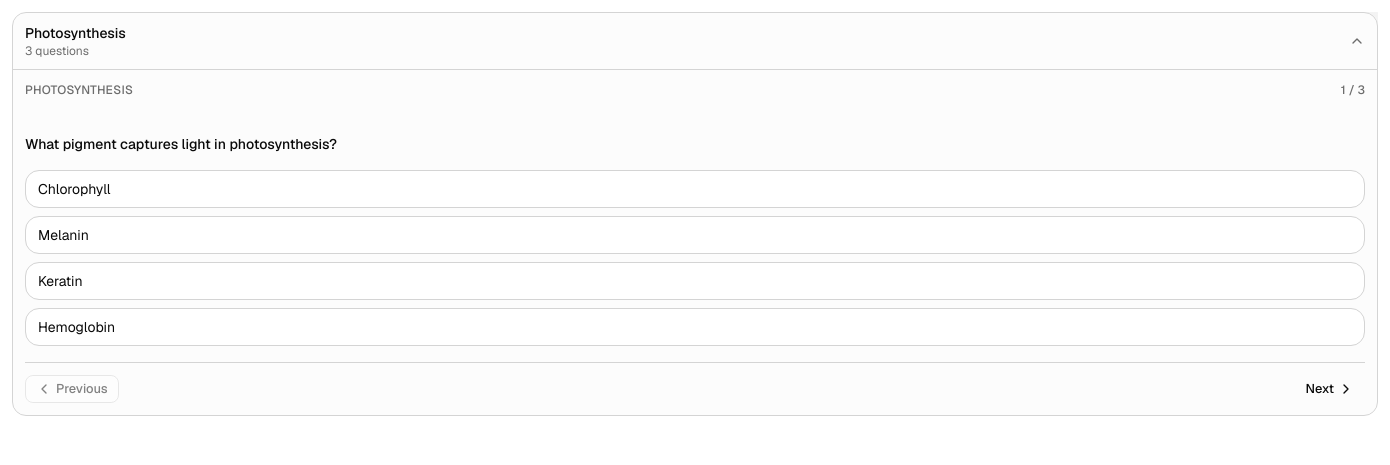
Test: QuizPanel — saving attempts › tells the user when a score couldn't be saved, without blocking the quiz
The width and height of the screenshot is (1390, 465).
Click the button "Chlorophyll".
click(74, 189)  # box [25,170,1365,208]
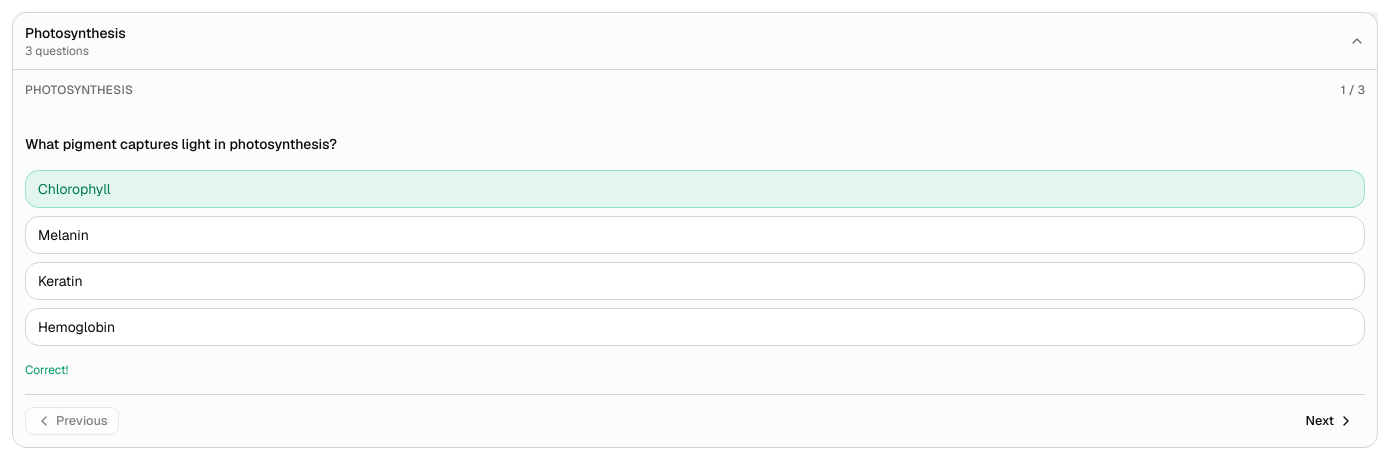
Click the button with aria-label "Next question".
click(1330, 421)  # box [1294,407,1365,435]
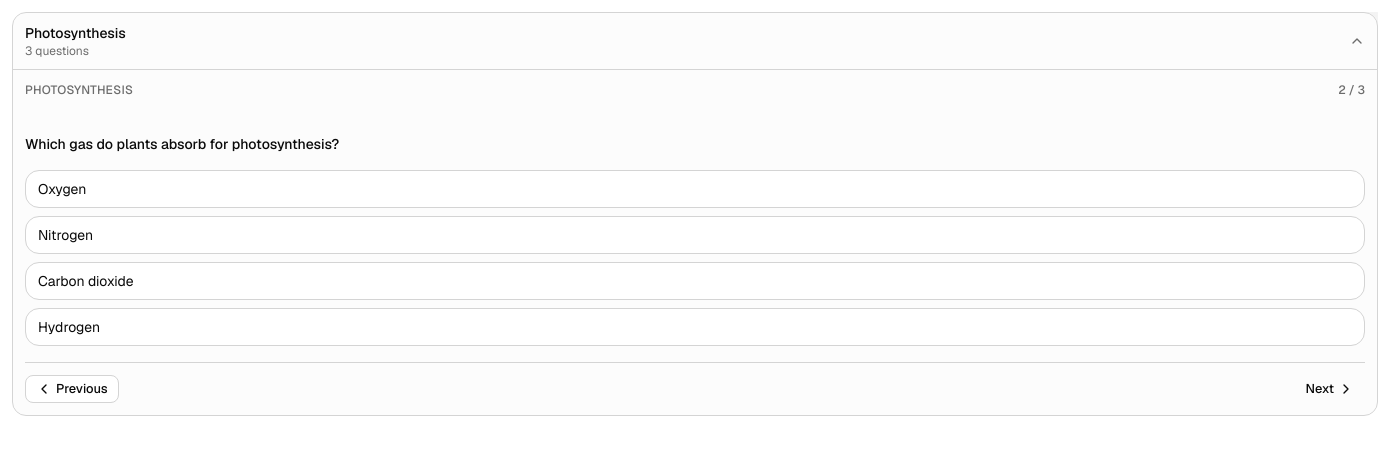
Click the button "Oxygen".
click(62, 189)  # box [25,170,1365,208]
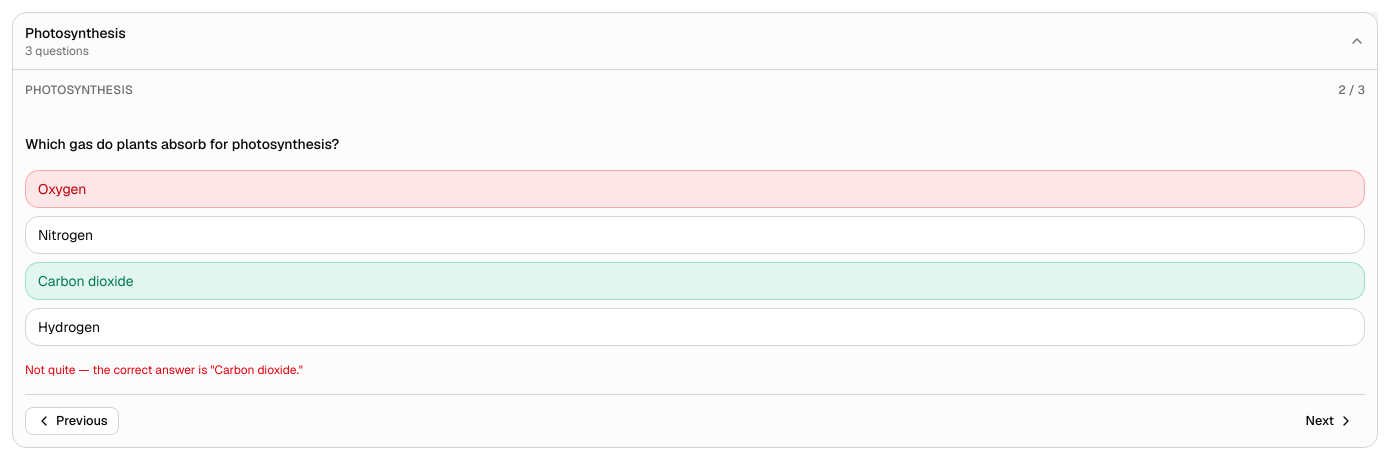
Click the button with aria-label "Next question".
click(1330, 421)  # box [1294,407,1365,435]
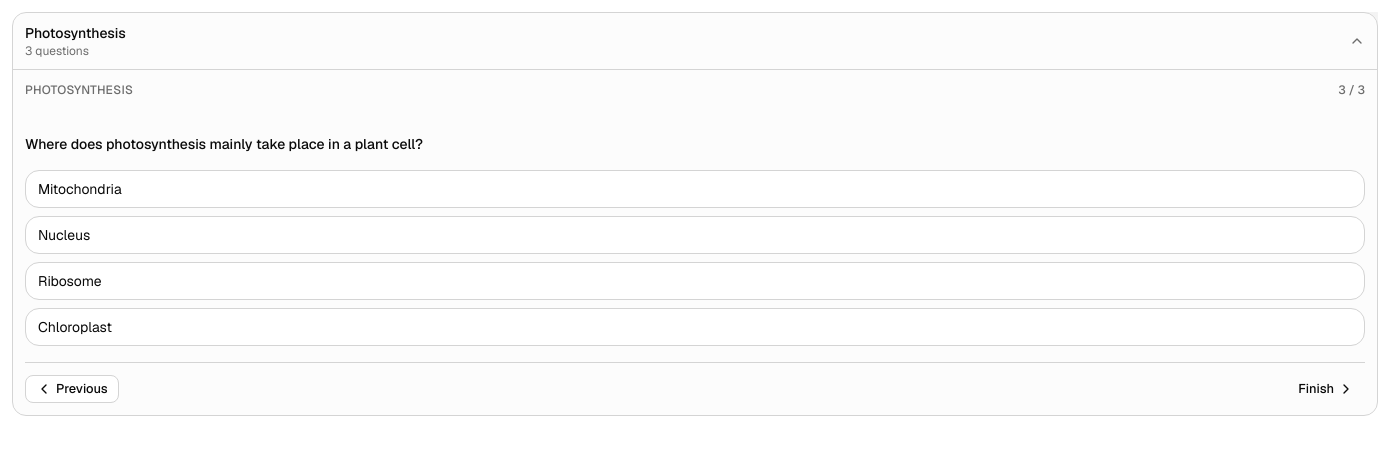
Click the button "Nucleus".
click(64, 235)  # box [25,216,1365,254]
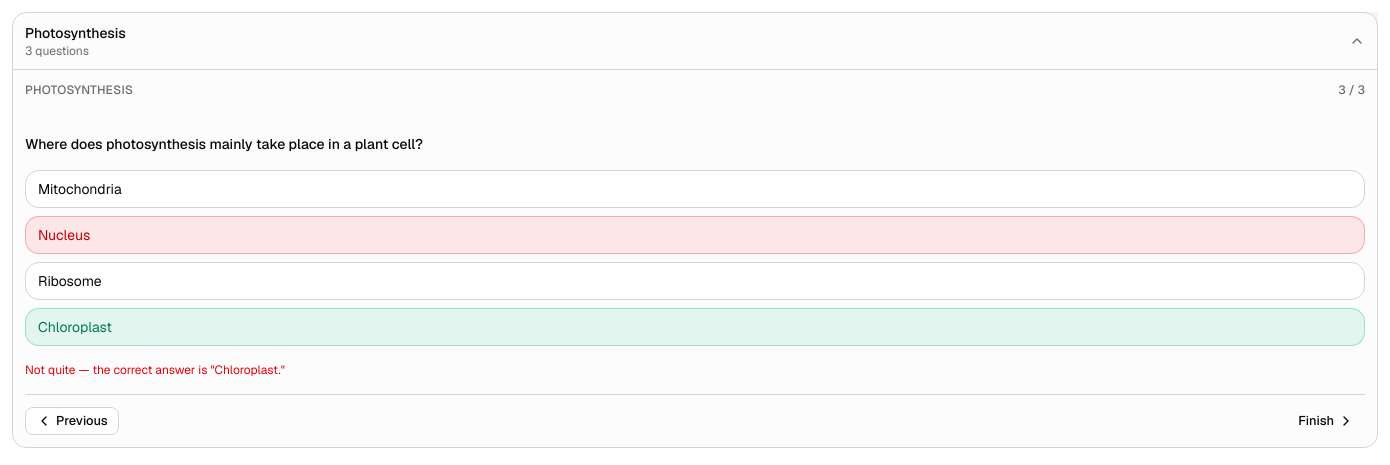
Click the button with aria-label "Finish quiz".
click(1326, 421)  # box [1287,407,1365,435]
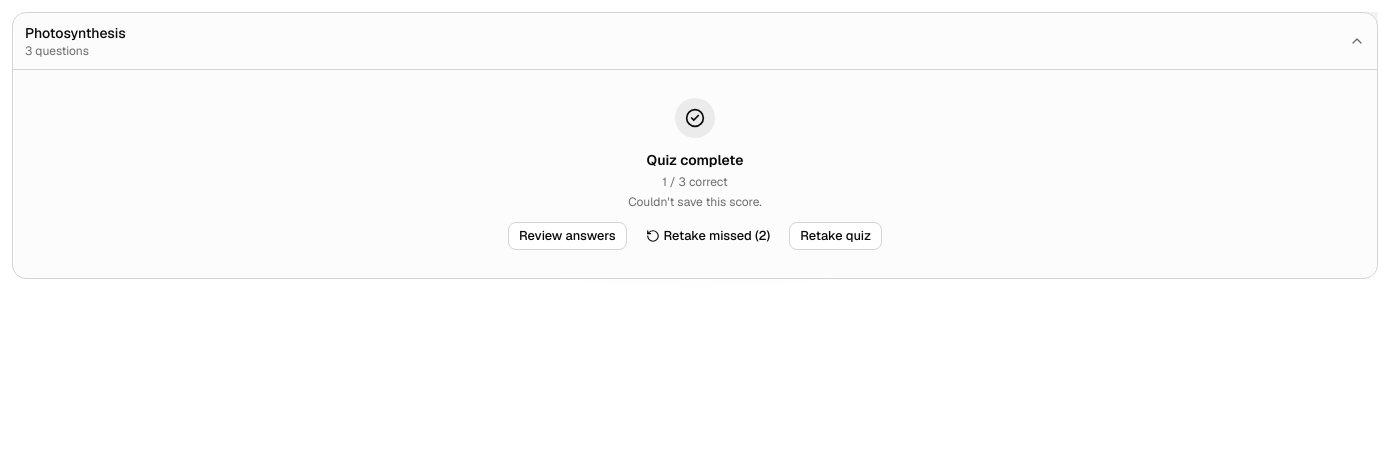
Check: the text "Couldn't save this score." is shown, box [628,194,762,210]
Check: the button "Retake missed (2)" is enabled, box [635,222,781,250]
